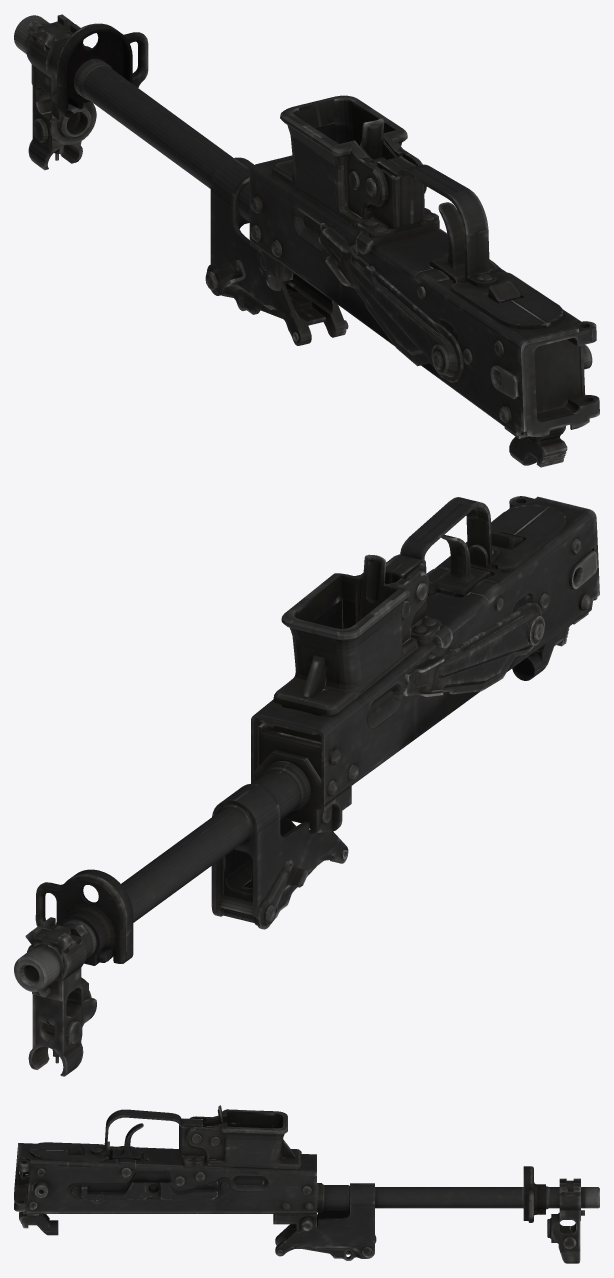
3 views of the same model, one above another, from view 1: azimuth 30°, elevation 25°; view 2: azimuth 150°, elevation 25°; view 3: azimuth 270°, elevation 25° (orthographic). The views are drawn at different scales.
Visible parts, largest first — view 1: TW_59984ab886f7743e98271174_PZ_Import; view 2: TW_59984ab886f7743e98271174_PZ_Import; view 3: TW_59984ab886f7743e98271174_PZ_Import.
Part boxes in pixels (x1,y1,x2,y2): TW_59984ab886f7743e98271174_PZ_Import: [14, 14, 599, 467]; TW_59984ab886f7743e98271174_PZ_Import: [14, 496, 599, 1076]; TW_59984ab886f7743e98271174_PZ_Import: [14, 1105, 599, 1263].
Size of the model in its own units: 0.0289 by 0.2515 by 0.0722.
Materials: 1 (1 with a texture image).
